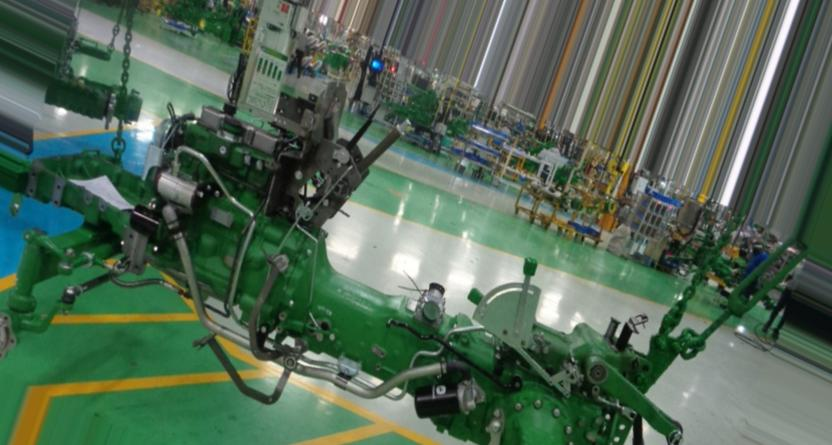engine: (0, 0, 702, 445)
